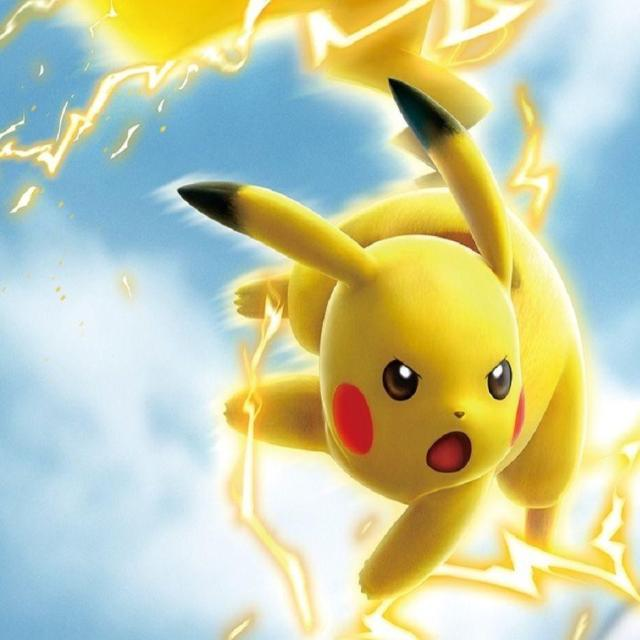pikachu: (178, 6, 586, 601)
